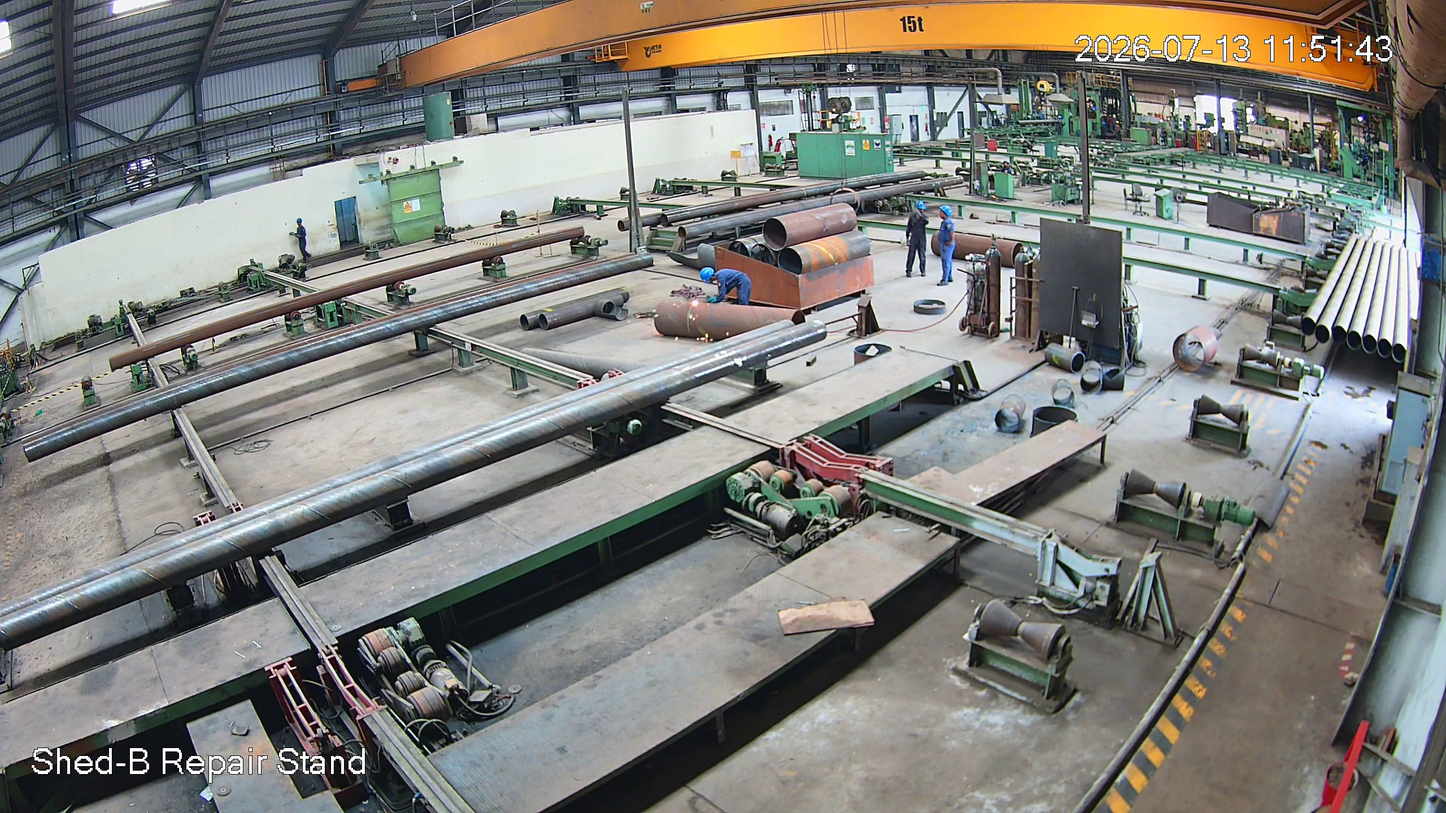Helmet: (696, 266, 718, 285), (938, 205, 955, 223), (914, 199, 931, 214)
Person: (700, 266, 756, 304), (934, 208, 960, 287), (906, 200, 926, 279)
